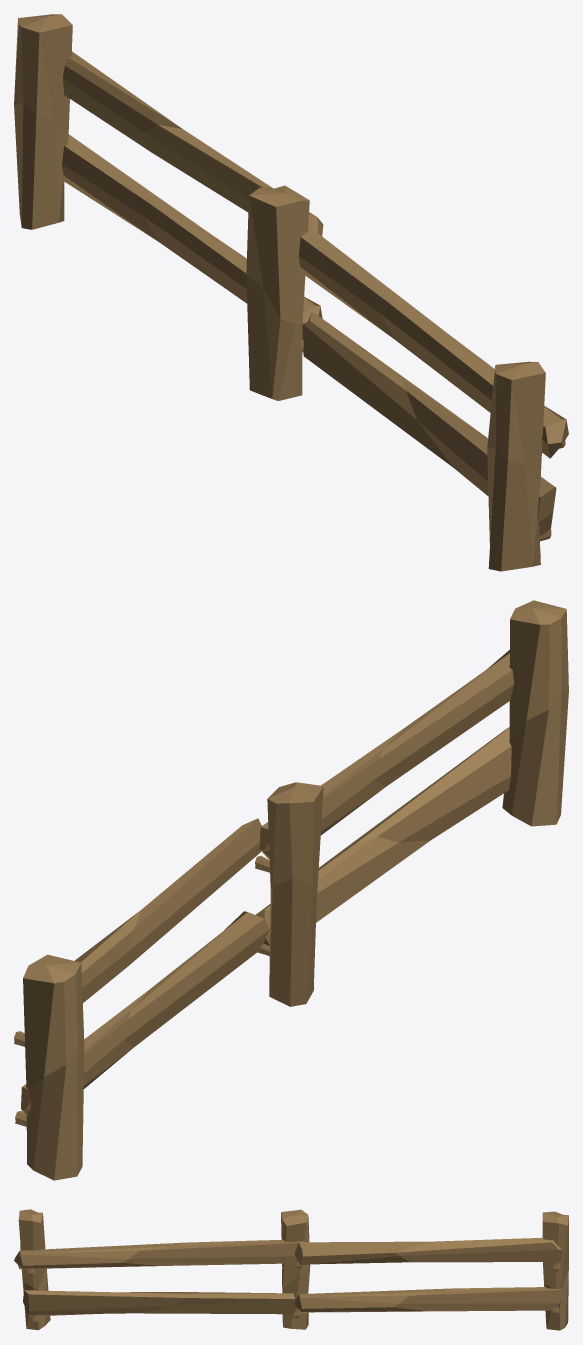
The model's file is wooden fence (normal size).fbx.
3 views of the same model, one above another, from view 1: azimuth 30°, elevation 25°; view 2: azimuth 150°, elevation 25°; view 3: azimuth 270°, elevation 25° (orthographic). The views are drawn at different scales.
Parts seen in each view (by area): view 1: post.002, post.003, slat.003, post.001, slat.002, slat.001, slat; view 2: post.001, post.003, slat.003, post.002, slat.002, slat.001, slat; view 3: slat.002, slat.003, slat, slat.001, post.001, post.002, post.003.
Part boxes in pixels (x1=…): post.002: x1=246, y1=185, x2=309, y2=400; post.003: x1=487, y1=361, x2=545, y2=571; slat.003: x1=303, y1=312, x2=556, y2=536; post.001: x1=14, y1=14, x2=72, y2=229; slat.002: x1=298, y1=226, x2=568, y2=458; slat.001: x1=62, y1=134, x2=322, y2=339; slat: x1=63, y1=51, x2=323, y2=236; post.001: x1=23, y1=954, x2=84, y2=1180; post.003: x1=502, y1=600, x2=568, y2=826; slat.003: x1=256, y1=727, x2=511, y2=946; post.002: x1=267, y1=782, x2=323, y2=1006; slat.002: x1=259, y1=650, x2=514, y2=859; slat.001: x1=21, y1=911, x2=269, y2=1115; slat: x1=74, y1=818, x2=261, y2=1002; slat.002: x1=14, y1=1239, x2=303, y2=1269; slat.003: x1=23, y1=1290, x2=296, y2=1316; slat: x1=294, y1=1237, x2=562, y2=1265; slat.001: x1=294, y1=1287, x2=563, y2=1312; post.001: x1=542, y1=1211, x2=568, y2=1330; post.002: x1=281, y1=1209, x2=310, y2=1329; post.003: x1=18, y1=1209, x2=50, y2=1330.
Size of the model in its own units: 232 by 598 by 2642.
